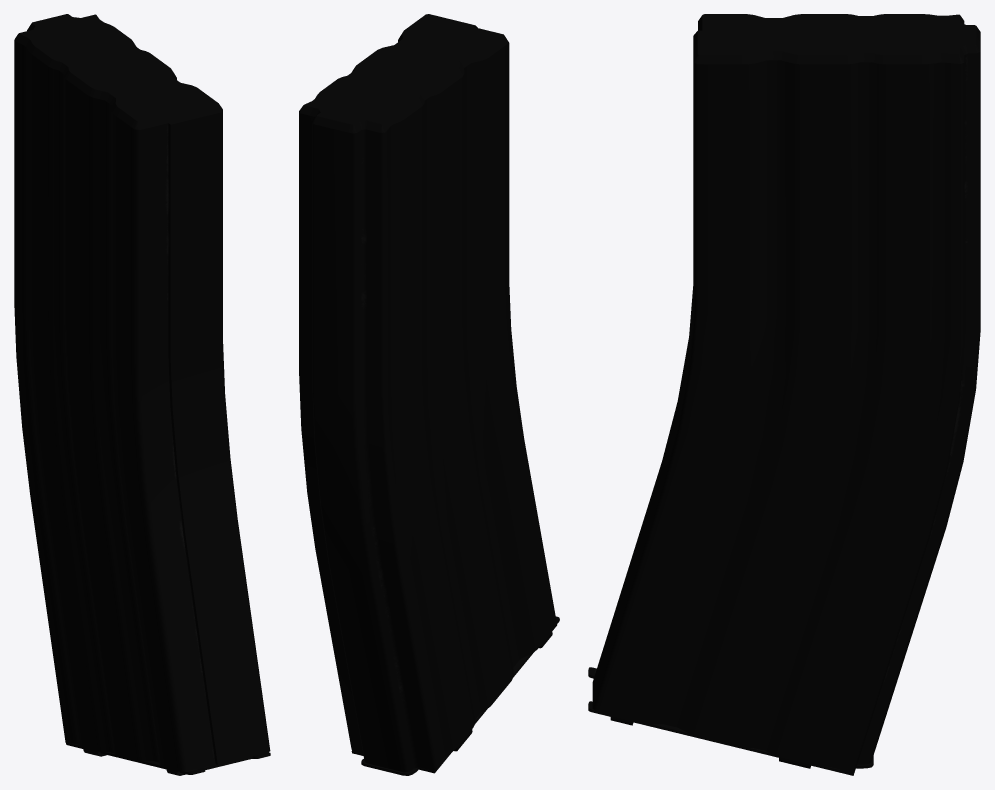
File: M4_BaseMagazine.fbx
The picture shows the model from 3 angles, left to right: view 1: azimuth 30°, elevation 25°; view 2: azimuth 150°, elevation 25°; view 3: azimuth 270°, elevation 25°; orthographic projection. The views are drawn at different scales.
Parts seen in each view (by area): view 1: BaseMagazine; view 2: BaseMagazine; view 3: BaseMagazine.
Part boxes in pixels (<box>): BaseMagazine: <box>14,14,270,775</box>; BaseMagazine: <box>299,14,559,775</box>; BaseMagazine: <box>588,14,980,775</box>.
Bounding box in the file's own units: 2.34 × 17.38 × 8.58.
Materials: 1 (1 with a texture image).
